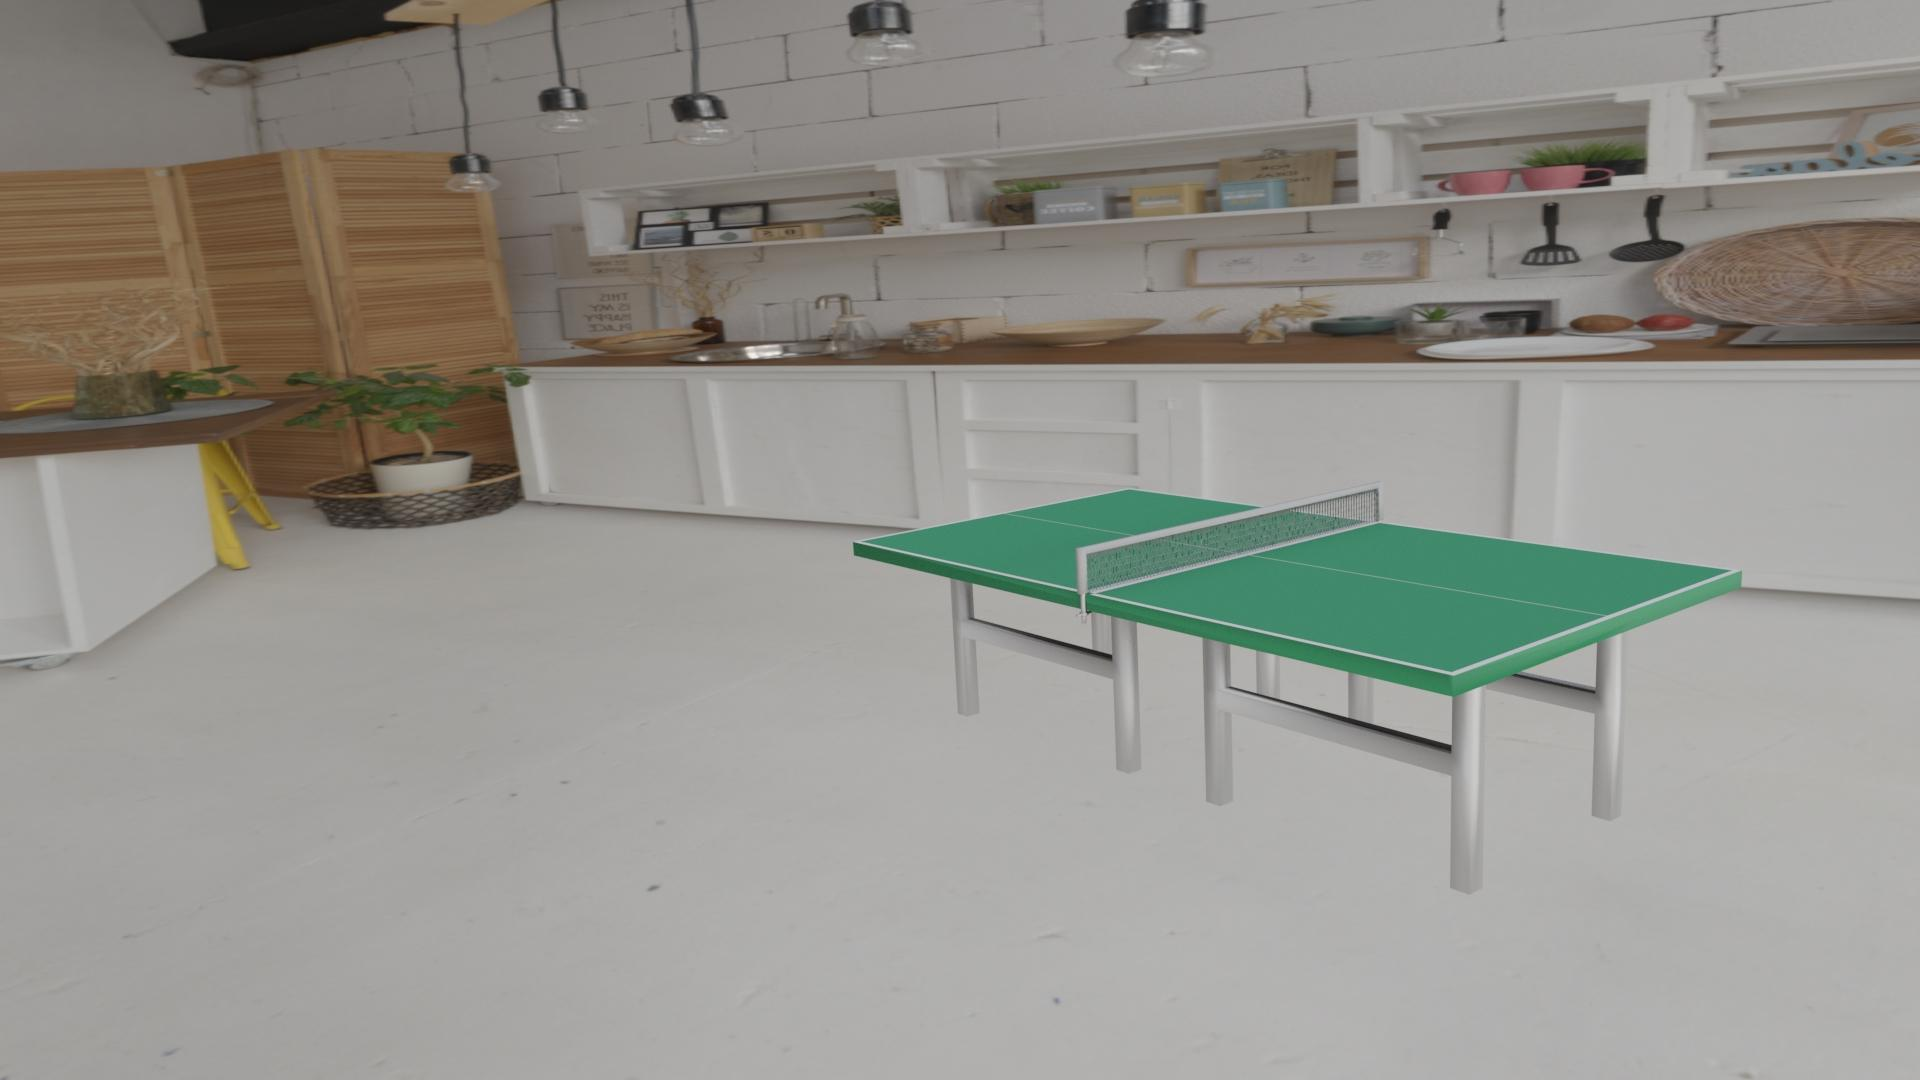table: (860, 489, 1733, 673)
